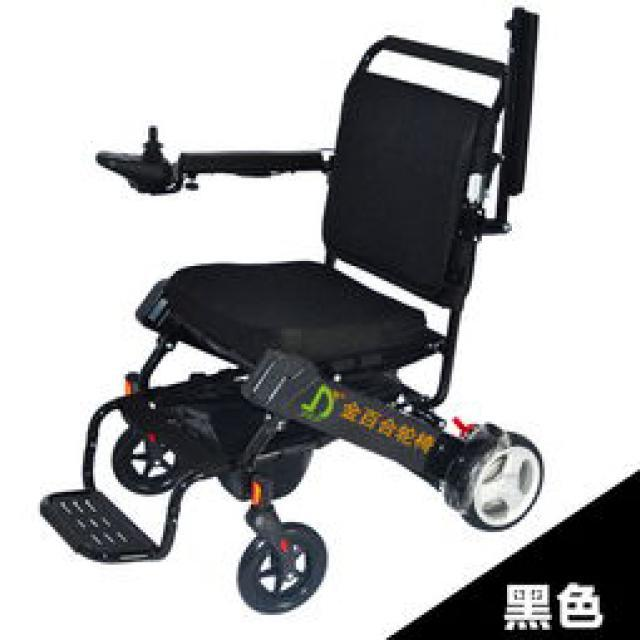wheelchair: (30, 8, 557, 622)
